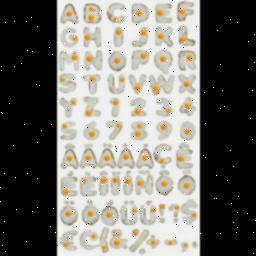c: (105, 2, 129, 24)
o: (107, 50, 127, 74), (154, 173, 174, 197), (79, 205, 101, 225), (178, 176, 196, 196), (60, 207, 80, 225), (100, 208, 118, 226)
s: (56, 69, 80, 99)
u: (106, 75, 130, 97), (121, 206, 139, 226), (140, 205, 156, 227)
